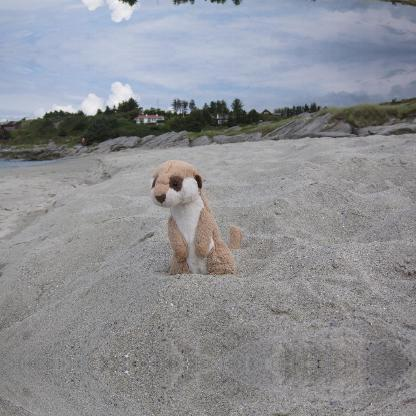Dog: (148, 160, 242, 276)
